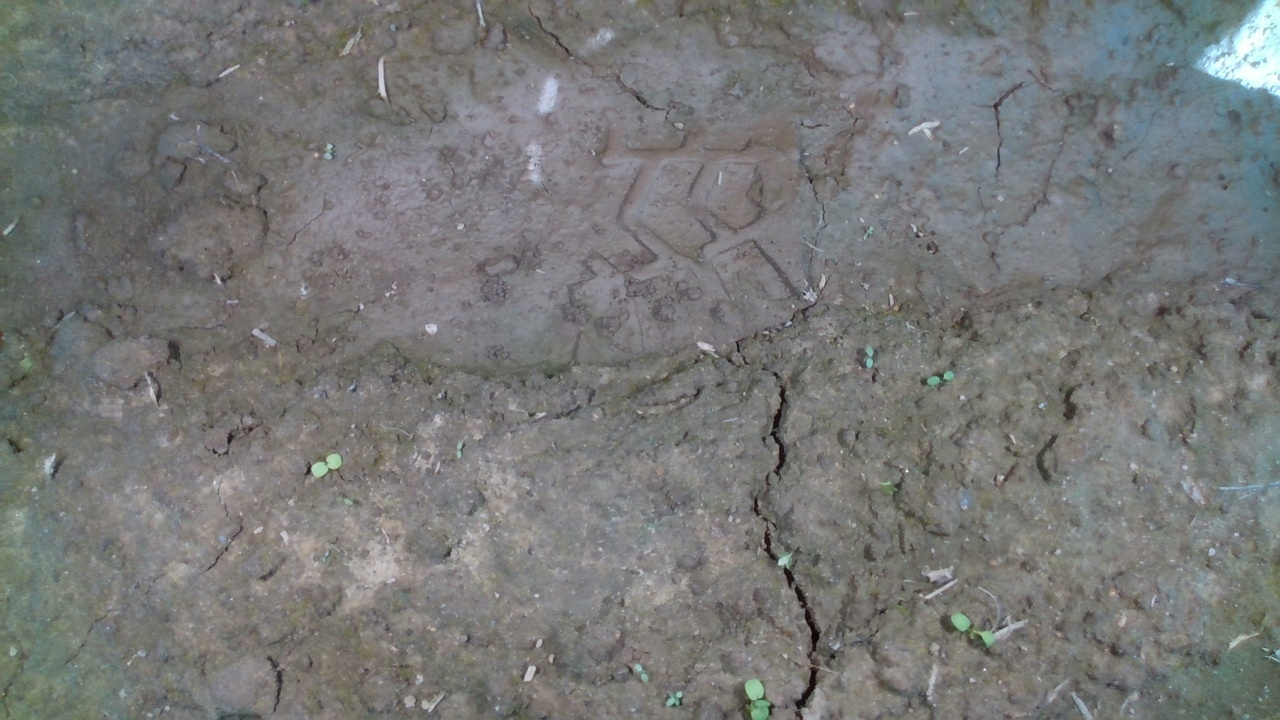weed: (920, 366, 962, 393), (308, 447, 344, 475), (855, 342, 883, 372), (782, 540, 801, 573)
